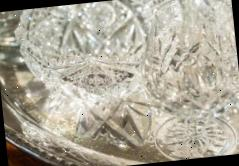glass: (12, 0, 190, 110), (140, 0, 239, 162)
